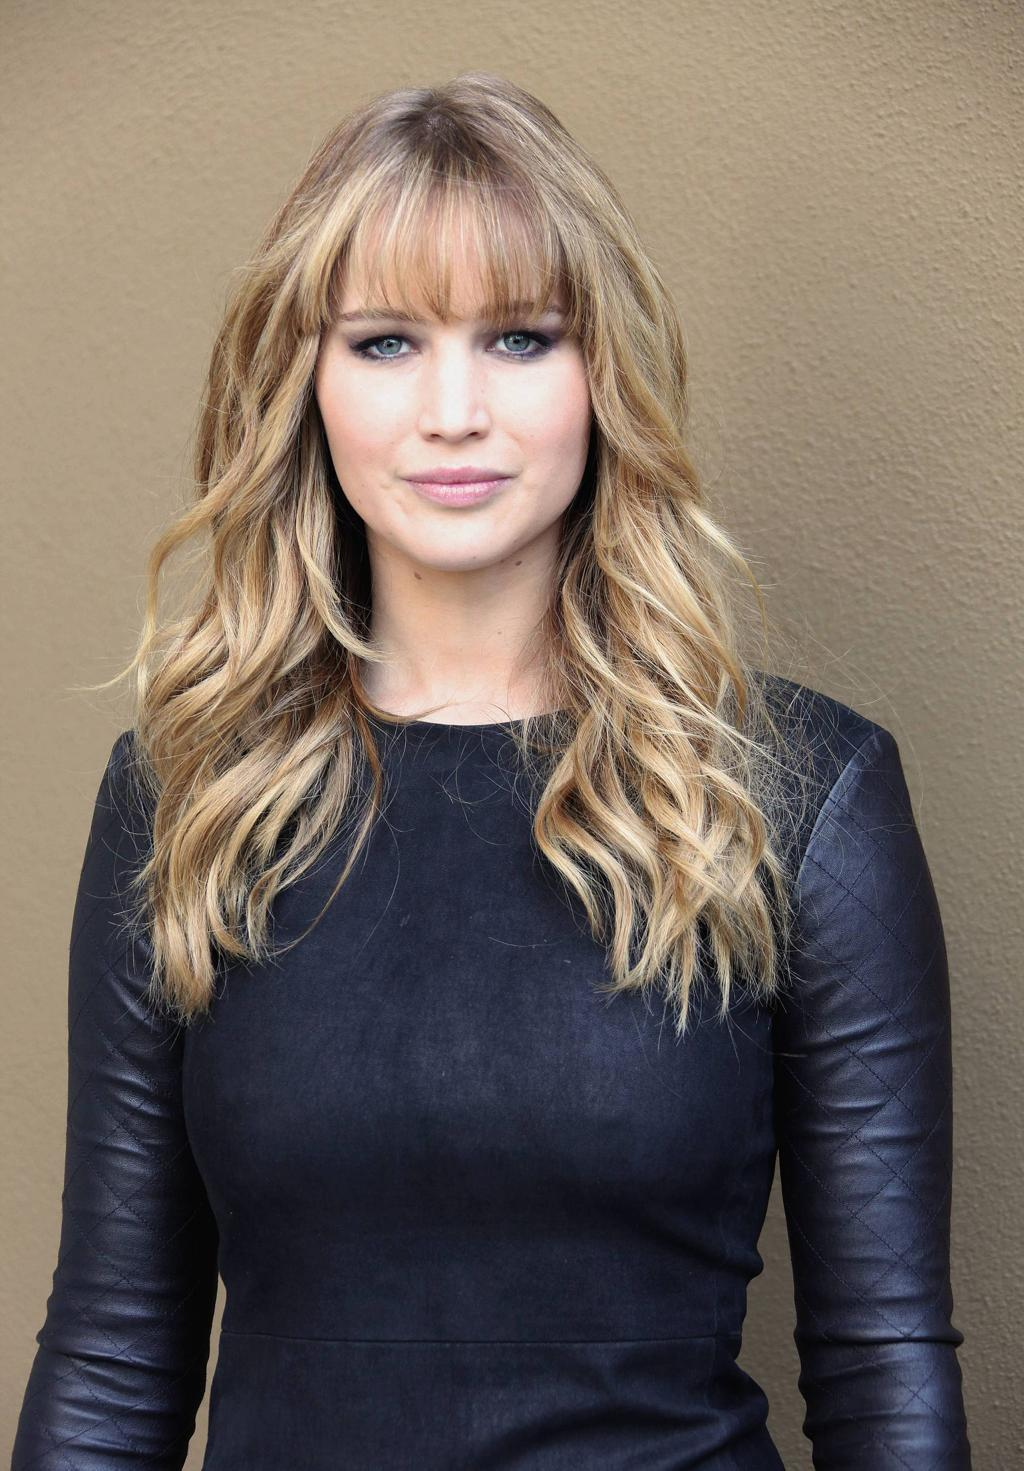face: (317, 225, 587, 572)
